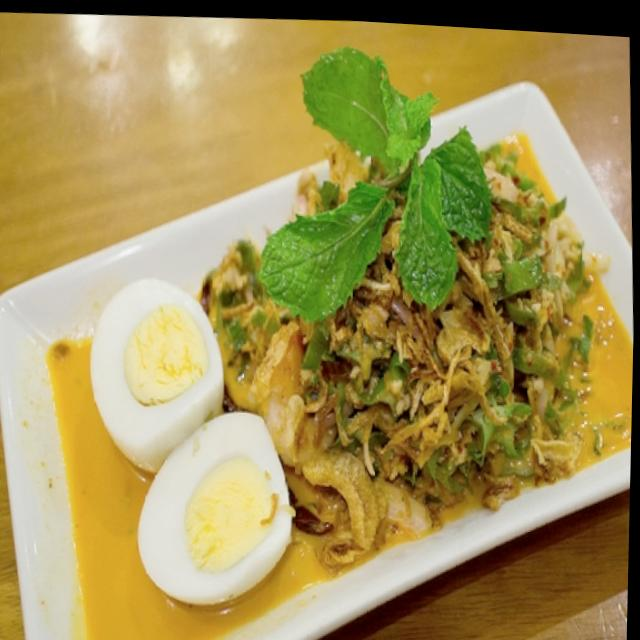鸡肉料理 含炸鸡: (7, 3, 640, 640)
